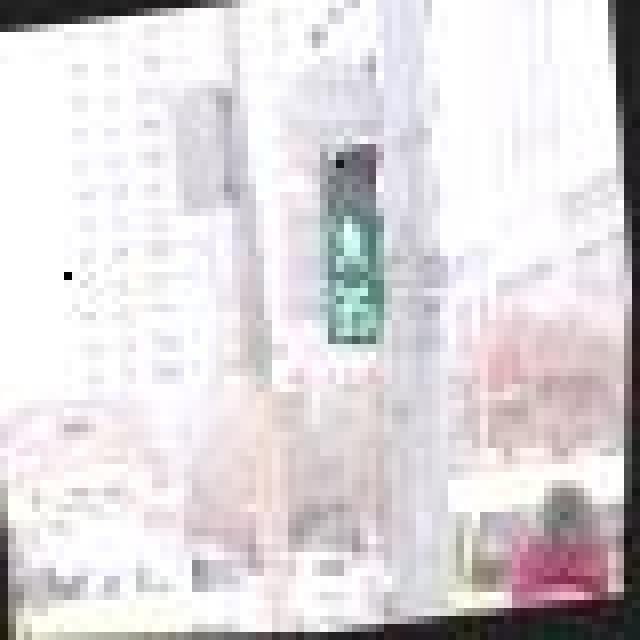greenlight: (308, 146, 391, 278)
